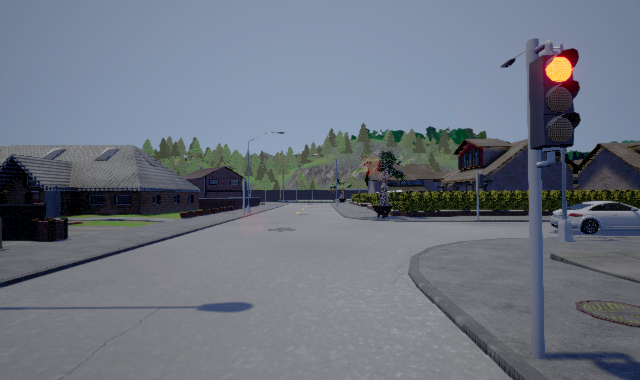traffic_light: (529, 47, 580, 150)
vehicle: (551, 201, 640, 234)
